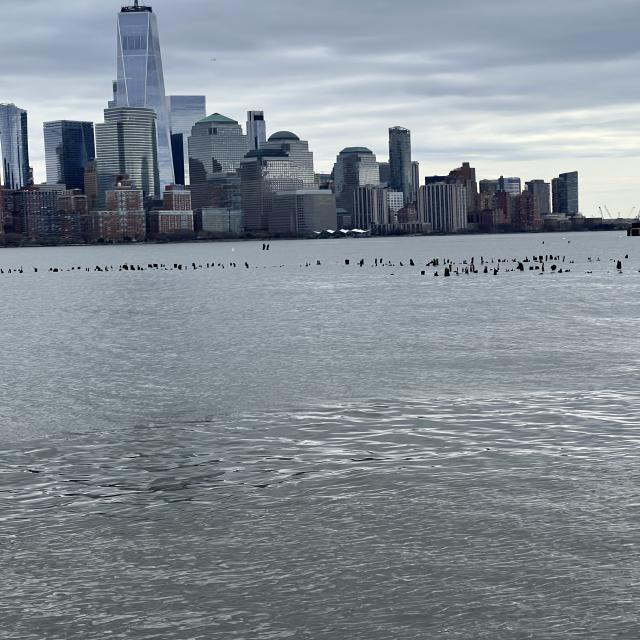WTC: (115, 0, 162, 106)
